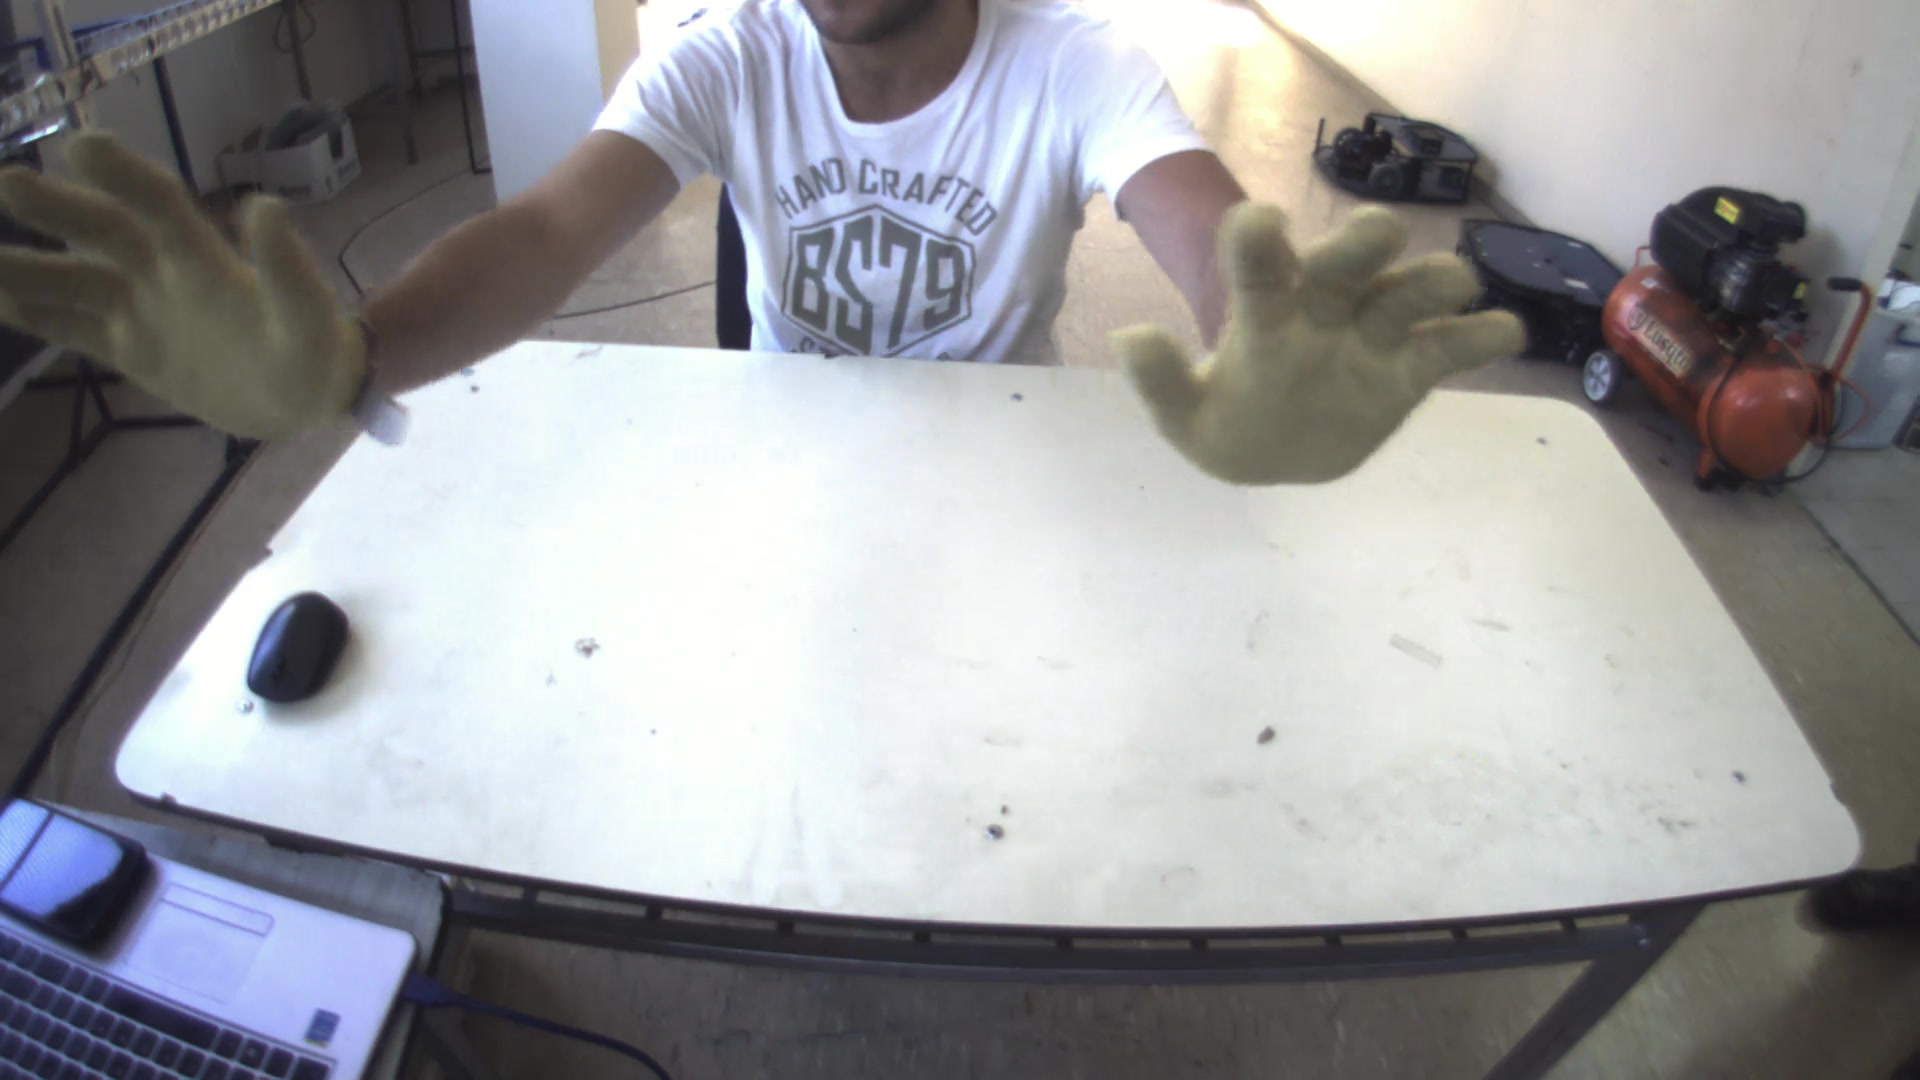hand: (1104, 187, 1545, 495), (0, 107, 371, 448)
